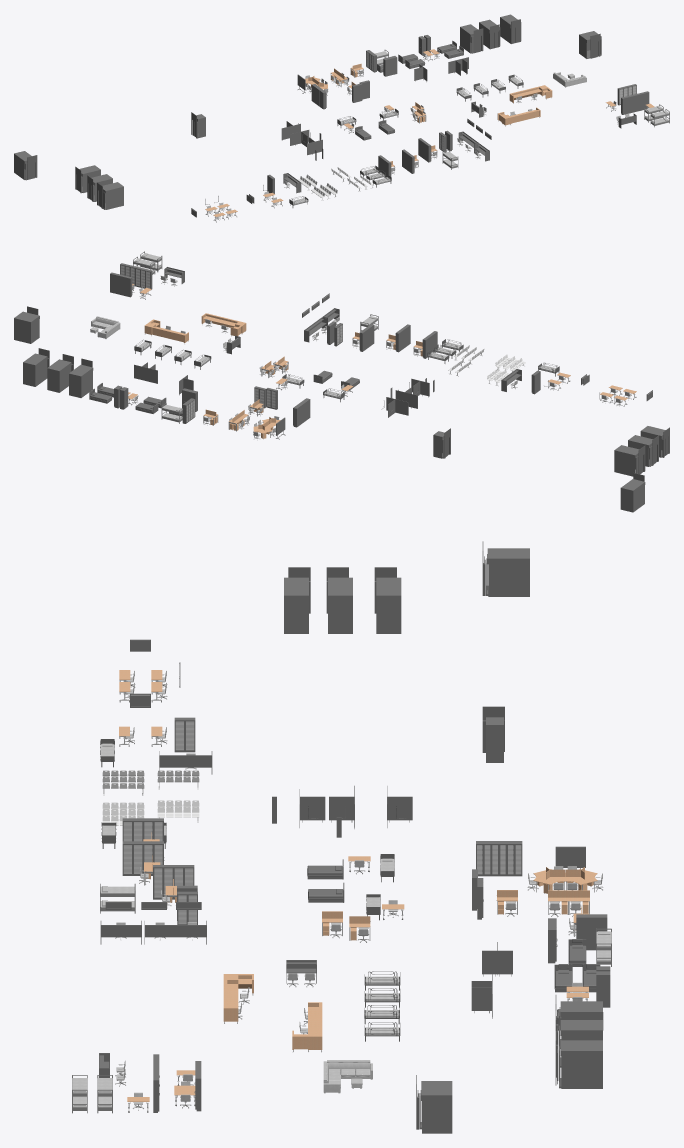
The model's file is F1_jiaju.glb.
3 views of the same model, one above another, from view 1: azimuth 30°, elevation 25°; view 2: azimuth 150°, elevation 25°; view 3: azimuth 270°, elevation 25° (orthographic). The views are drawn at different scales.
Parts seen in each view (by area): view 1: 1400*2400 [374716], jjxt-1 [1055678], jjxt-1 [1055860], 1400*2400 [430755], 1400*2400 [430689], 1750*1950 [431086], 1400*2400 [431051]; view 2: 1750*1950 [431086], 1400*2400 [430689], 1400*2400 [431051], 1400*2400 [374661], 1400*2400 [430755], 1400*2400 [430976], jjxt-1 [1055860], jjxt-1 [1055678], 2880x2880x760mm 皮革，褐色 [593038], 1400*2400 [374465]; view 3: 1400*2400 [431051], 1400*2400 [430689], 1750*1950 [431086], 1400*2400 [374661], 1400*2400 [374465], 1400*2400 [374716], 2880x2880x760mm 皮革，褐色 [593038], jjxt-1 [1055678], jjxt-1 [1055860], 1400*2400 [430976], 1400*2400 [430755].
Part boxes in pixels (x1,y1,x2,y2): 1400*2400 [374716]: [99, 182, 123, 209]; jjxt-1 [1055678]: [497, 107, 540, 126]; jjxt-1 [1055860]: [509, 85, 552, 103]; 1400*2400 [430755]: [460, 24, 480, 53]; 1400*2400 [430689]: [14, 151, 34, 180]; 1750*1950 [431086]: [579, 31, 601, 58]; 1400*2400 [431051]: [500, 14, 521, 43]; 1750*1950 [431086]: [14, 311, 39, 343]; 1400*2400 [430689]: [620, 479, 645, 512]; 1400*2400 [431051]: [23, 353, 47, 386]; 1400*2400 [374661]: [614, 445, 642, 476]; 1400*2400 [430755]: [69, 364, 93, 397]; 1400*2400 [430976]: [47, 359, 71, 392]; jjxt-1 [1055860]: [144, 319, 188, 344]; jjxt-1 [1055678]: [201, 313, 246, 336]; 2880x2880x760mm 皮革，褐色 [593038]: [90, 316, 120, 338]; 1400*2400 [374465]: [628, 435, 652, 466]; 1400*2400 [431051]: [559, 1040, 602, 1088]; 1400*2400 [430689]: [486, 548, 529, 596]; 1750*1950 [431086]: [419, 1081, 452, 1133]; 1400*2400 [374661]: [376, 577, 401, 633]; 1400*2400 [374465]: [328, 577, 352, 633]; 1400*2400 [374716]: [284, 577, 308, 633]; 2880x2880x760mm 皮革，褐色 [593038]: [323, 1060, 372, 1093]; jjxt-1 [1055678]: [223, 974, 253, 1023]; jjxt-1 [1055860]: [292, 1002, 322, 1052]; 1400*2400 [430976]: [559, 1020, 602, 1067]; 1400*2400 [430755]: [559, 1001, 602, 1048].
Size of the model in its own units: 75.32 by 3 by 31.41.
Materials: 8 (3 with a texture image).
